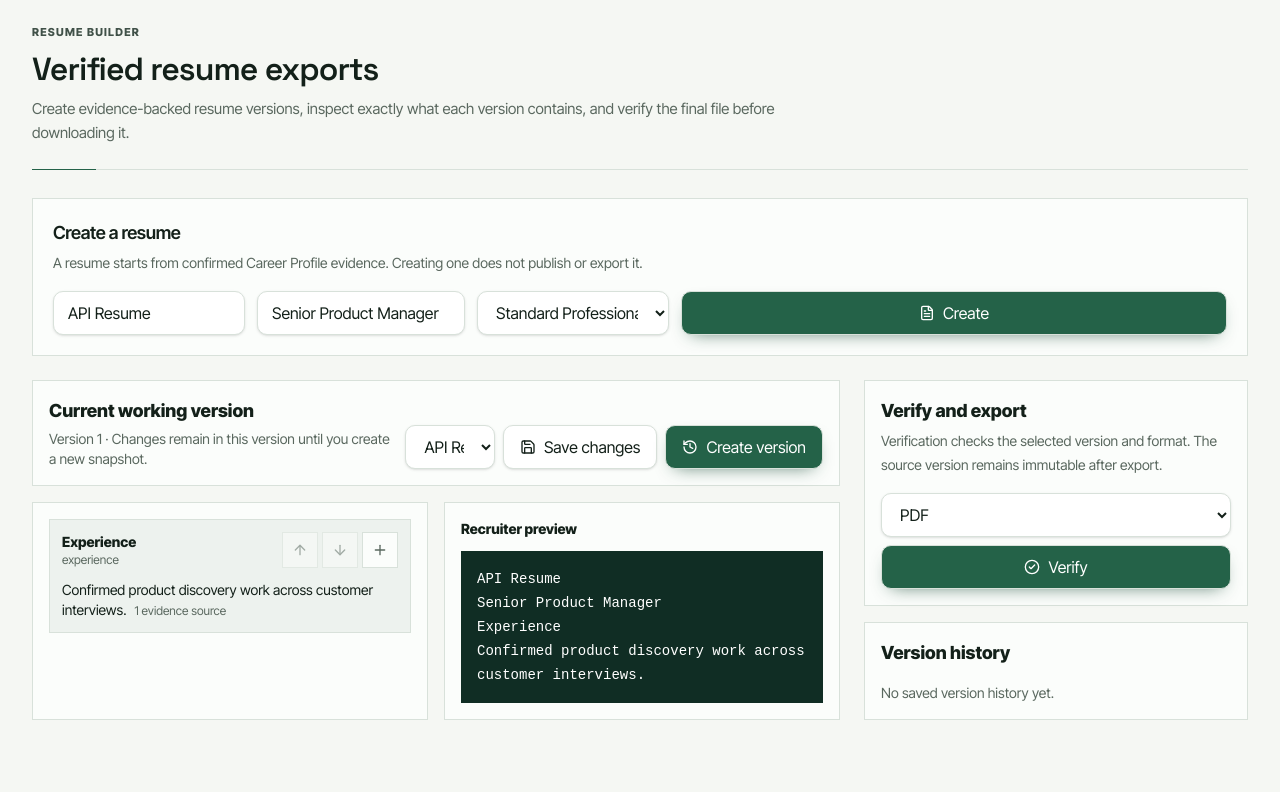
Resume Builder view › shows blocked verification and keeps download disabled
The image size is (1280, 792).
Check: the heading "Recruiter preview" is shown, box left=461, top=520, right=577, bottom=536
Click the button "Verify" at (1056, 566), box left=881, top=544, right=1231, bottom=588
(page scrolled)
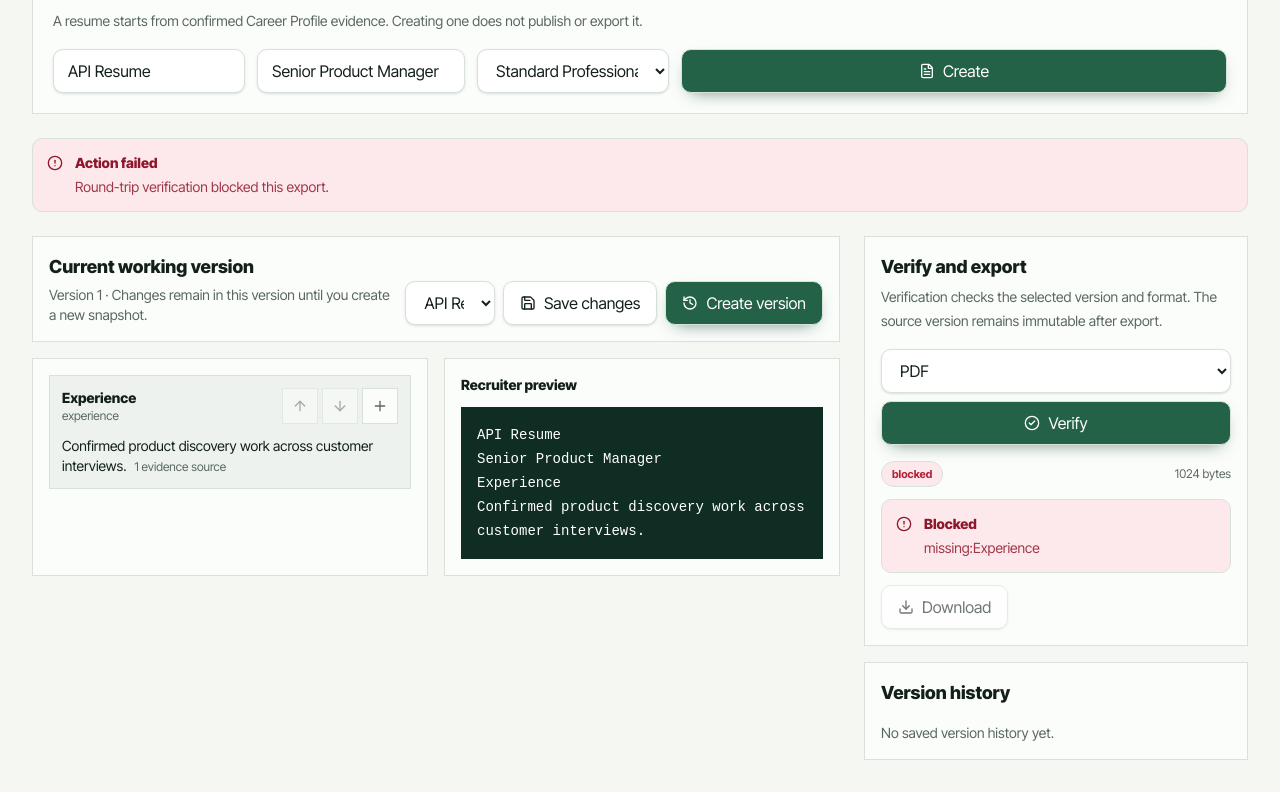
Check: the button "Download" is disabled, box left=881, top=584, right=1008, bottom=628
